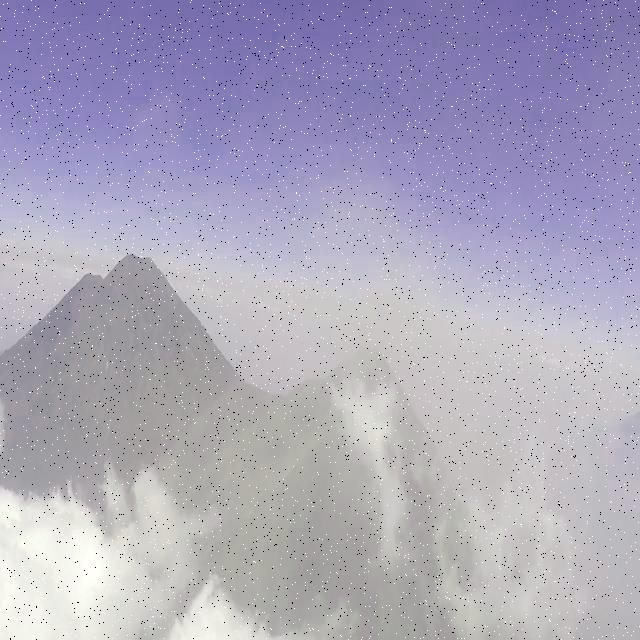Summit: (268, 331, 466, 507)
